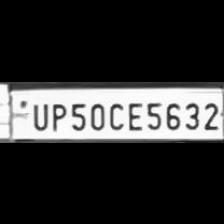0: (86, 98, 106, 130)
2: (199, 98, 219, 130)
3: (182, 98, 200, 130)
5: (66, 98, 86, 130), (144, 97, 162, 129)
6: (163, 98, 181, 130)
C: (104, 98, 124, 130)
E: (124, 98, 144, 130)
P: (48, 99, 66, 130)
U: (28, 98, 48, 130)
